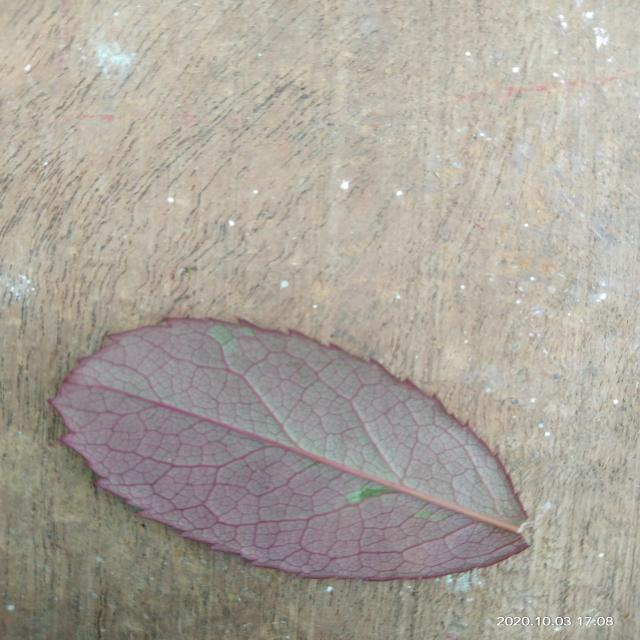rose: (52, 319, 527, 580)
